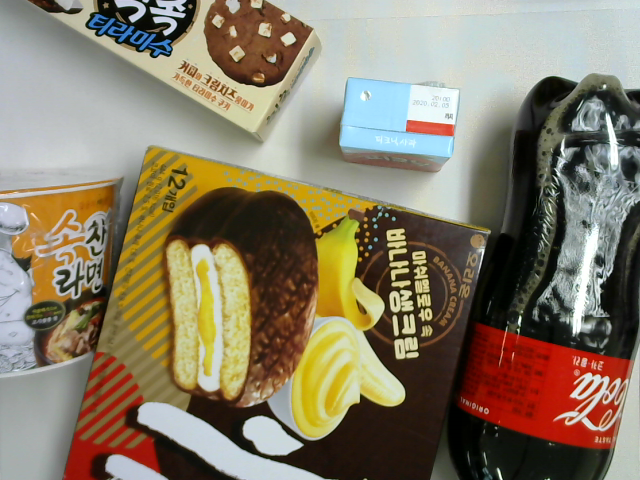Chicchok_Tiramisu: (20, 1, 324, 149)
Choco_Pie_Banana: (62, 143, 492, 480)
Coca_Cola_1.5L: (448, 73, 639, 480)
Hejangchan: (1, 160, 127, 383)
Picnic_Apple: (334, 74, 463, 179)
